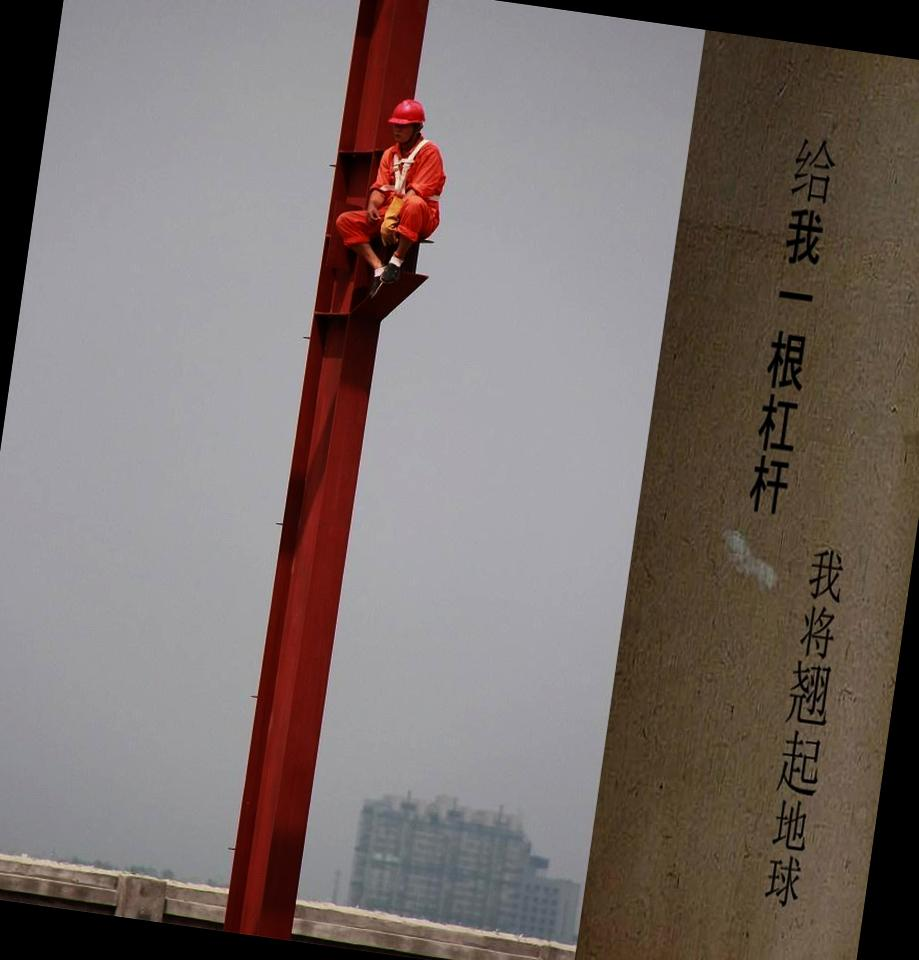helmet: (379, 88, 430, 147)
person: (320, 88, 464, 332)
